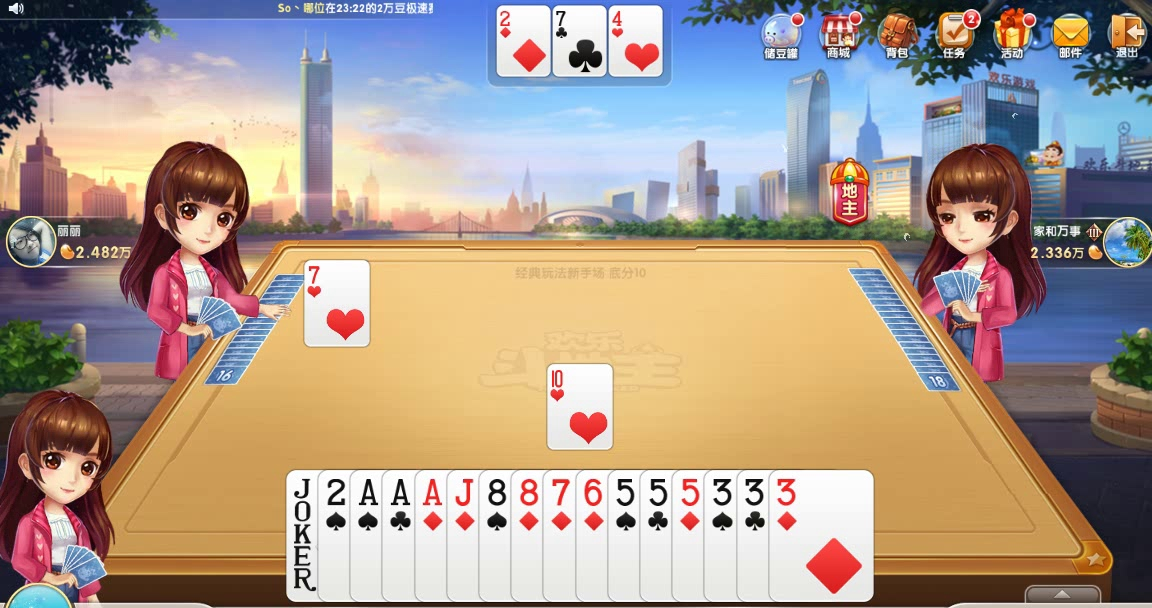10~3: (548, 363, 613, 450)
11~1: (444, 470, 551, 603)
14~1: (413, 470, 520, 603)
14~2: (380, 470, 487, 603)
14~4: (349, 470, 456, 603)
15~1: (497, 5, 553, 77)
15~4: (315, 469, 422, 602)
17~3: (285, 469, 392, 602)
3~1: (767, 471, 874, 604)
3~2: (738, 470, 845, 603)
3~4: (704, 470, 811, 603)
4~3: (608, 4, 664, 76)
5~1: (672, 470, 779, 603)
5~2: (640, 470, 747, 603)
5~4: (606, 470, 713, 603)
6~1: (575, 470, 682, 603)
7~1: (542, 470, 649, 603)
7~2: (552, 4, 608, 76)
7~3: (303, 258, 373, 349)
8~1: (511, 470, 618, 603)
8~4: (479, 470, 586, 603)
